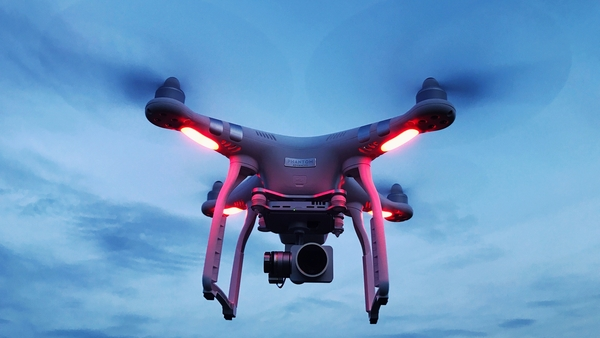drone: (142, 72, 462, 326)
